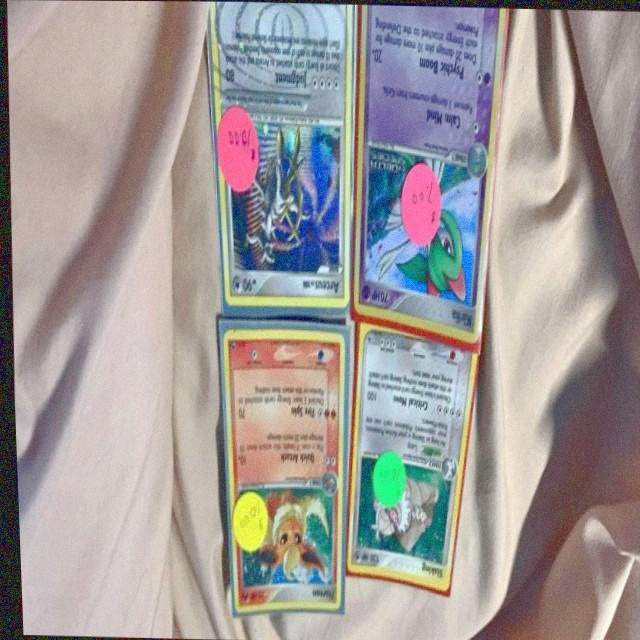card: (349, 3, 506, 343), (207, 1, 353, 307), (341, 319, 476, 590), (218, 325, 342, 612)
